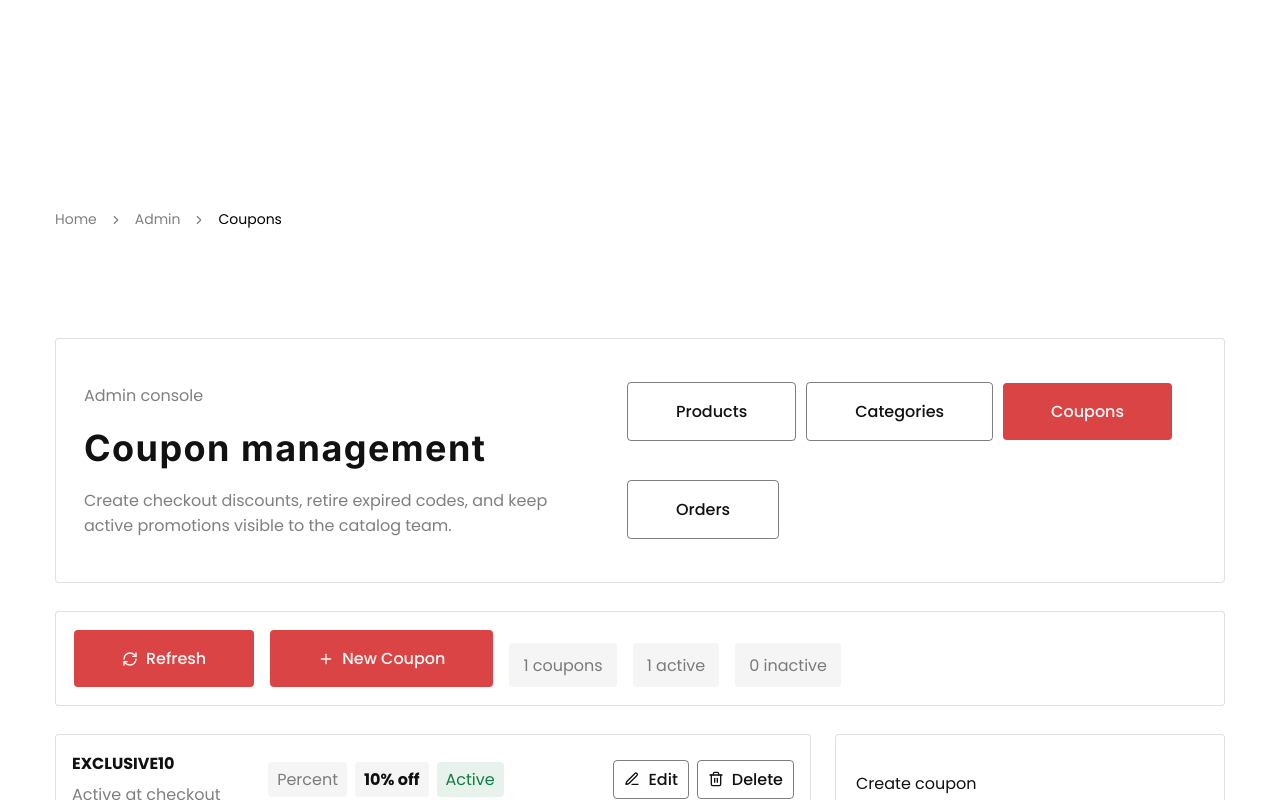
Test case: AdminCouponsPage › edits a coupon and updates the row
The width and height of the screenshot is (1280, 800).
Expected: the text "EXCLUSIVE10" is shown, [72,752,174,775]
Click the button "Edit". click: {"x": 651, "y": 779}
box: [613,760,689,798]
(page scrolled)
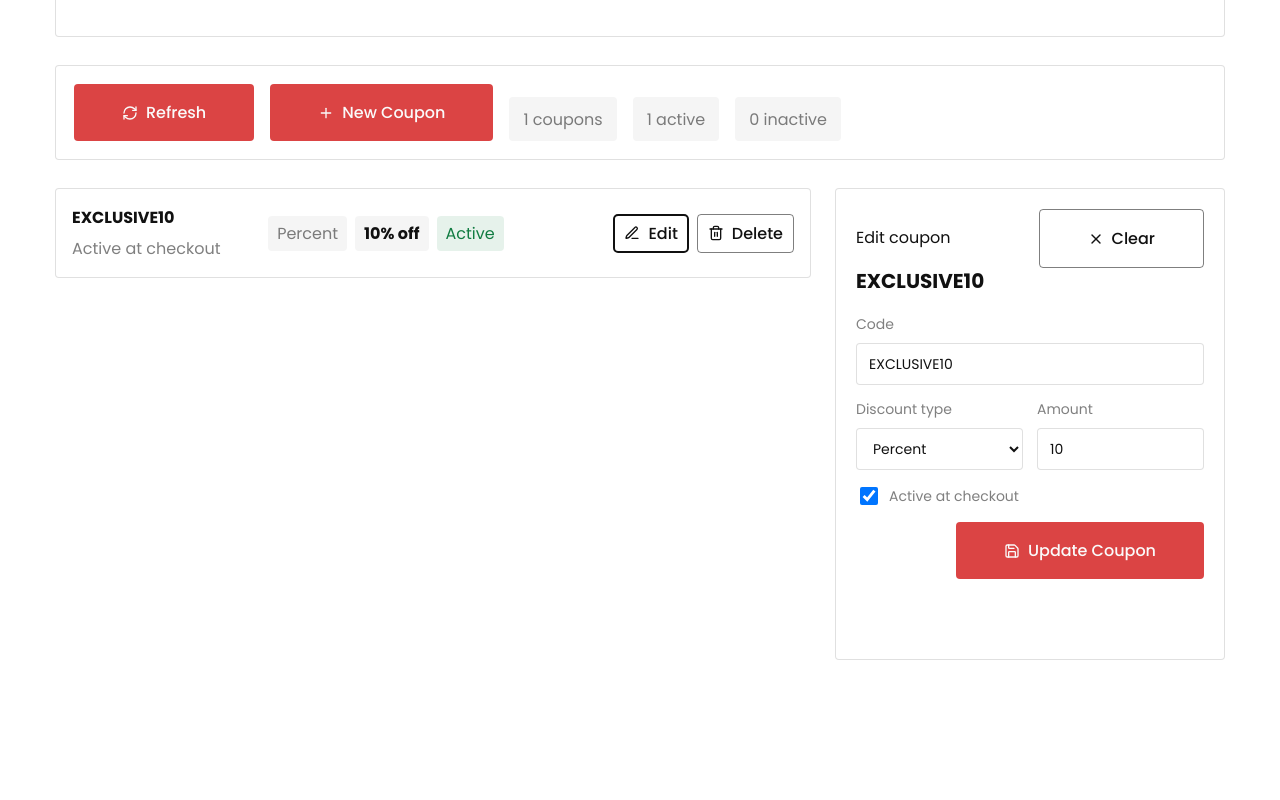
Replace the text in the number field labelled "Amount" with "15". click: {"x": 1120, "y": 449}
box: [1037,428,1204,470]
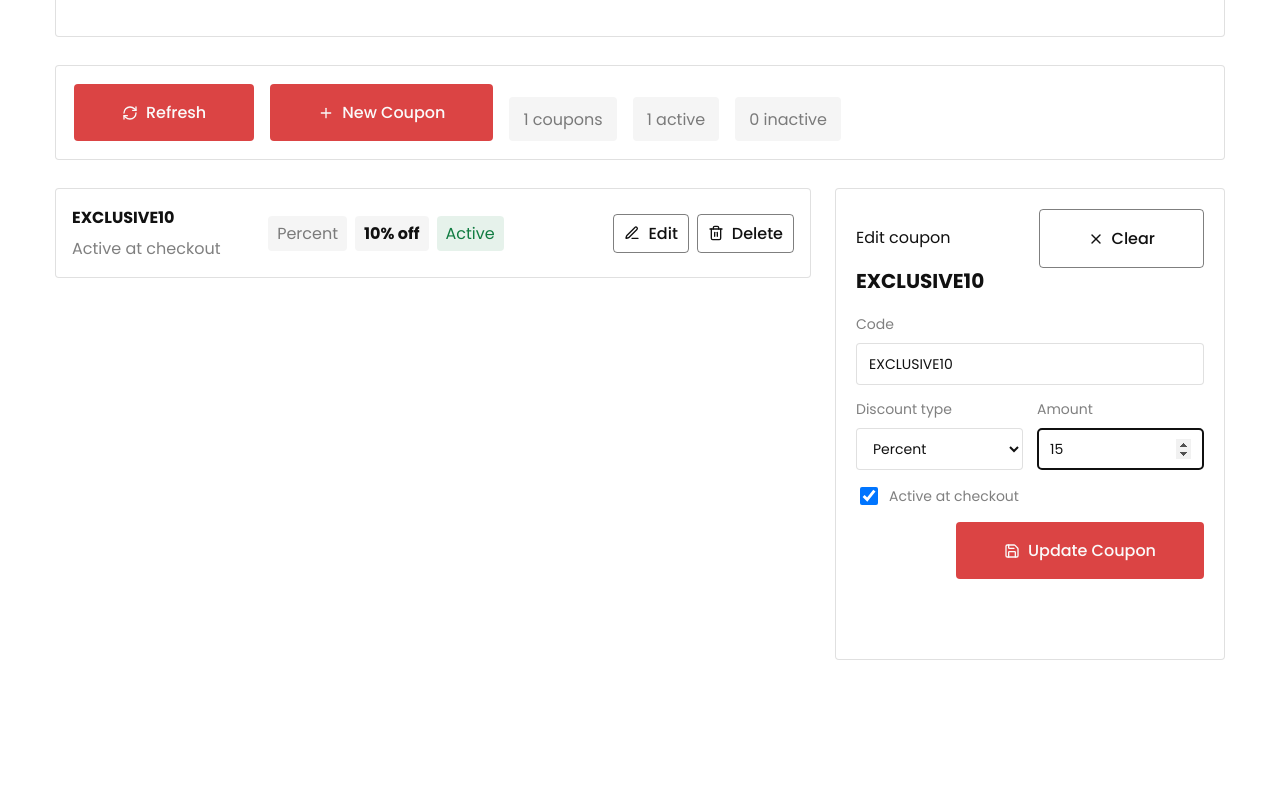
Click the checkbox labelled "Active at checkout". click: {"x": 869, "y": 496}
box: [860,487,878,505]
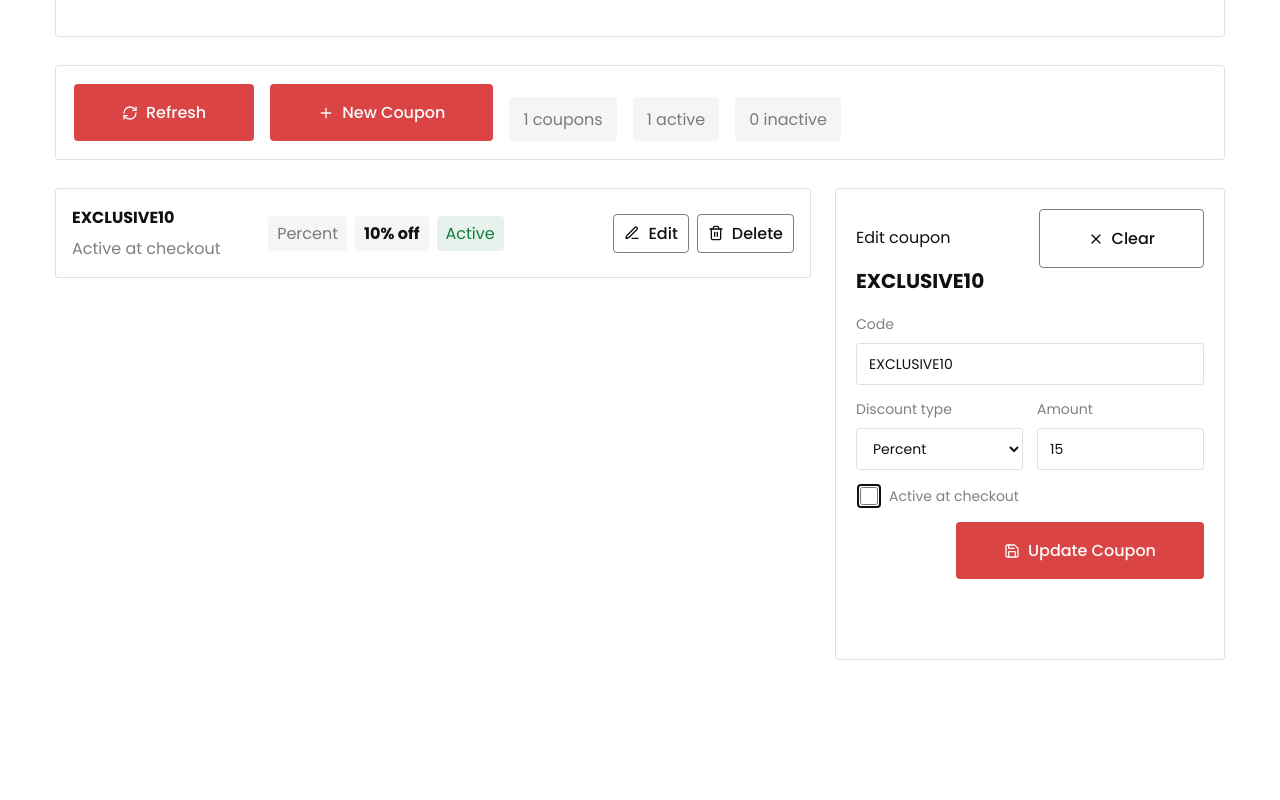
Click the button "Update Coupon". click: {"x": 1080, "y": 550}
box: [956,522,1204,579]
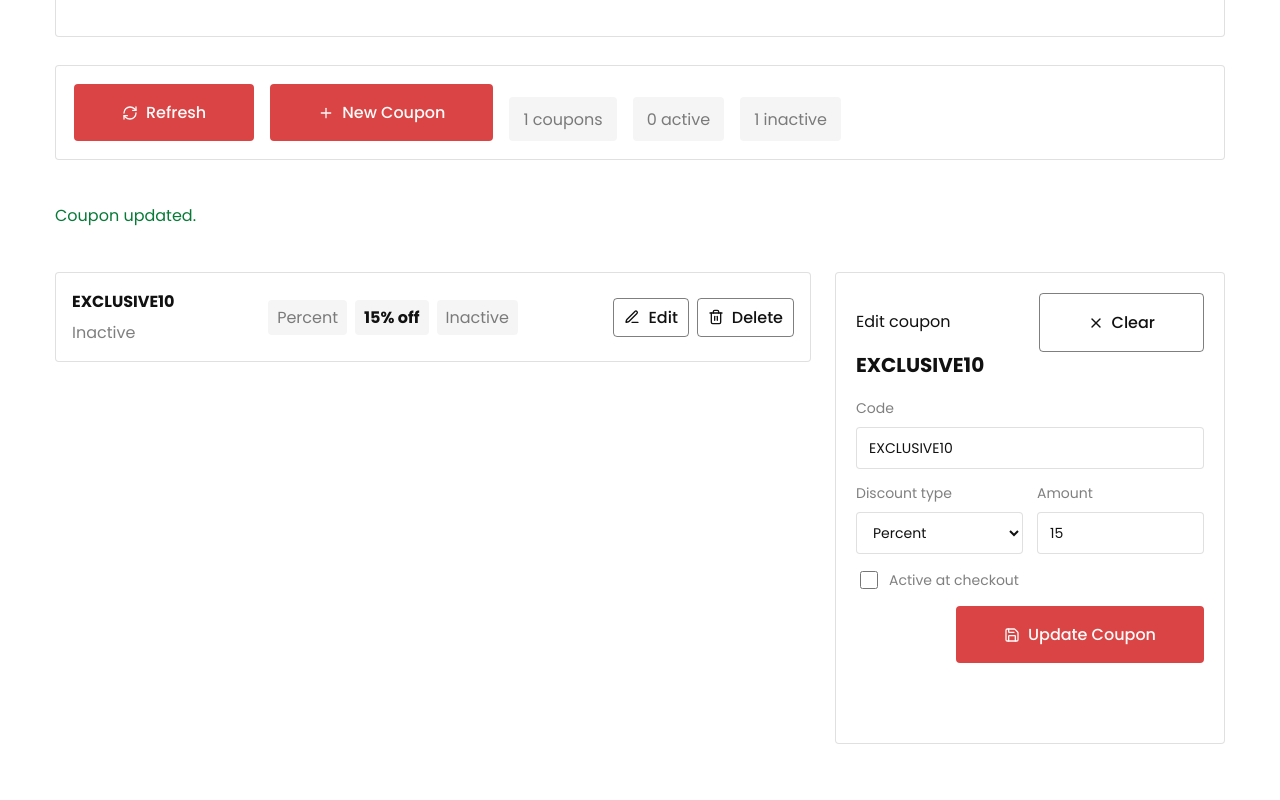
Now the text "15% off" is shown, box [355,300,428,334]
